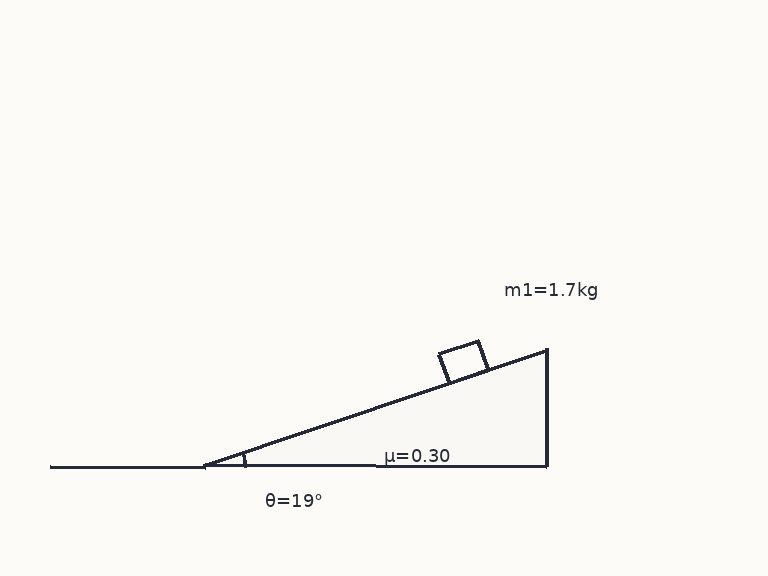block: (437, 339, 490, 385)
ramp: (203, 347, 548, 469)
